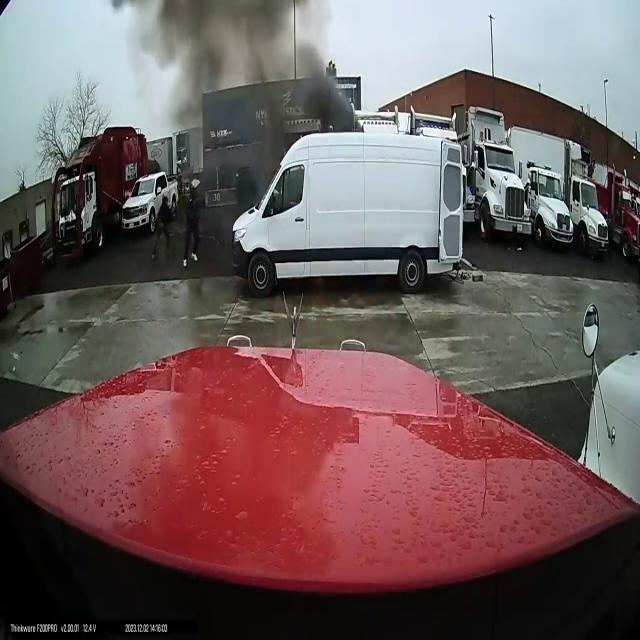Smoke: (146, 0, 352, 158)
